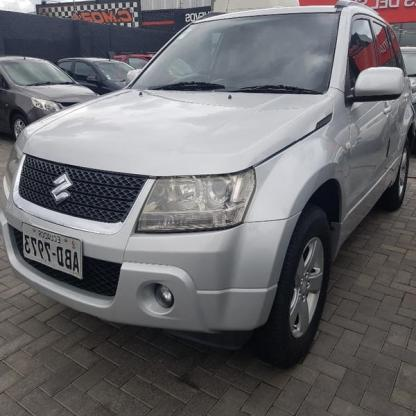Placa: (22, 224, 84, 276)
